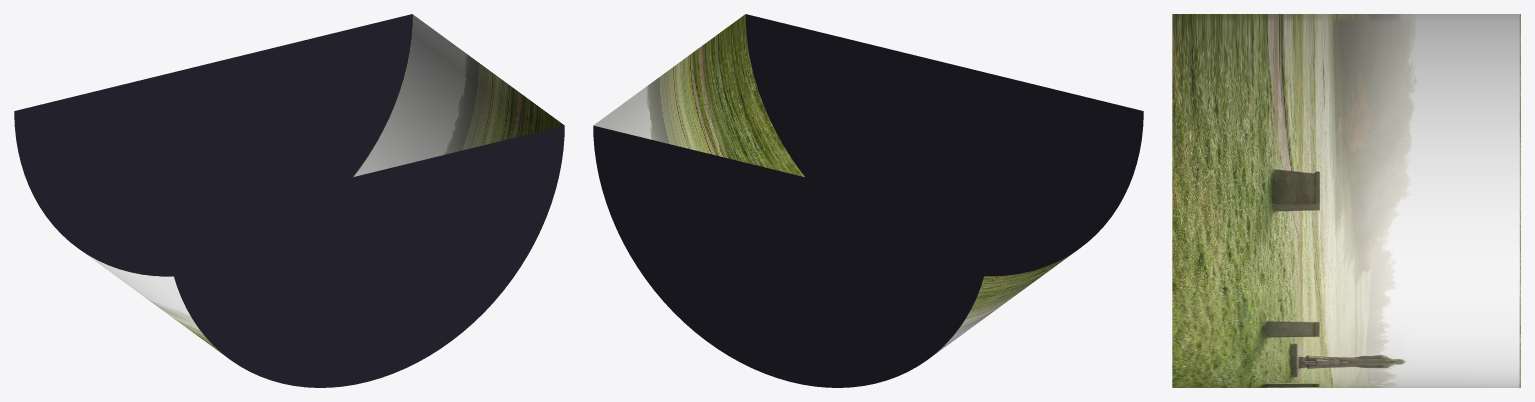
Rendered from mahnmal.glb.
3 renders of one model, left to right at view 1: azimuth 30°, elevation 25°; view 2: azimuth 150°, elevation 25°; view 3: azimuth 270°, elevation 25°, orthographic. The views are drawn at different scales.
Parts seen in each view (by area): view 1: root, Komponente#2; view 2: root, Komponente#2; view 3: Komponente#2.
Part boxes in pixels (box(x1,y1,x2,y2)): root: box(14, 14, 564, 387); Komponente#2: box(82, 14, 564, 356); root: box(593, 14, 1143, 387); Komponente#2: box(593, 14, 1075, 356); Komponente#2: box(1172, 14, 1520, 387).
Bounding box in the file's own units: 4.44 × 2.22 × 2.94.
Materials: 3 (1 with a texture image).
